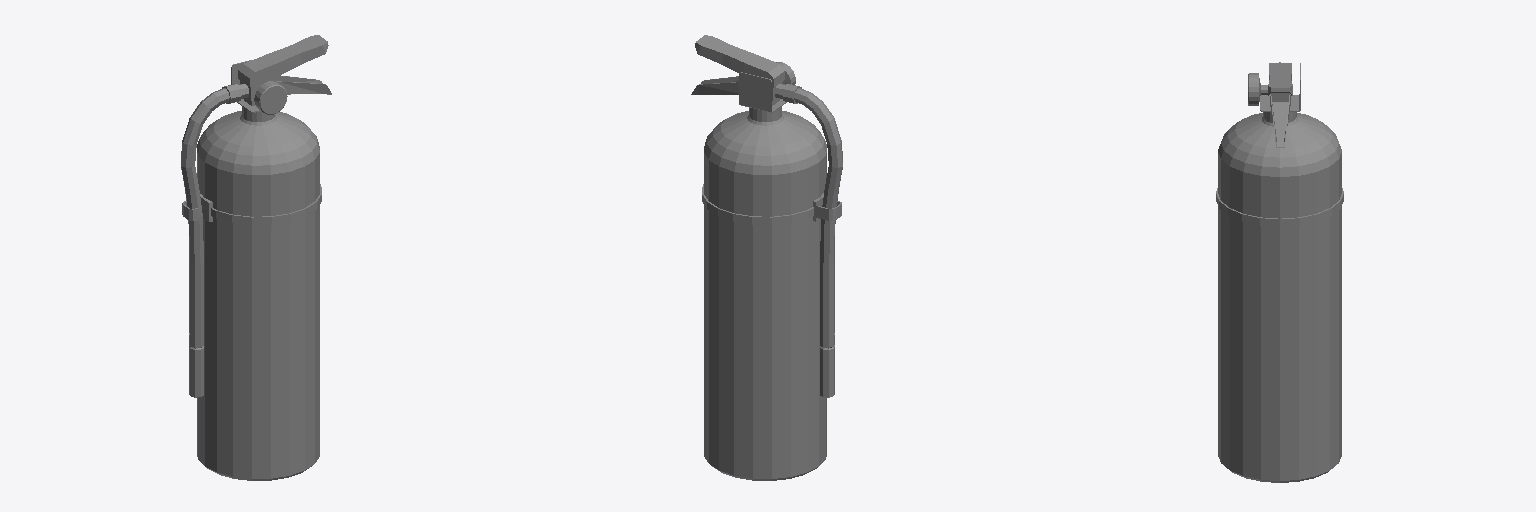
File: extinguidorElectrico.obj
3 renders of one model, left to right at view 1: azimuth 30°, elevation 25°; view 2: azimuth 150°, elevation 25°; view 3: azimuth 270°, elevation 25°, orthographic.
Visible parts, largest first — view 1: FireExtinguisher_Mesh; view 2: FireExtinguisher_Mesh; view 3: FireExtinguisher_Mesh.
Part boxes in pixels (x1,y1,x2,y2): FireExtinguisher_Mesh: (181, 35, 331, 480); FireExtinguisher_Mesh: (691, 35, 842, 480); FireExtinguisher_Mesh: (1216, 62, 1343, 482).
Size of the model in its own units: 3.35 by 8.63 by 2.49.